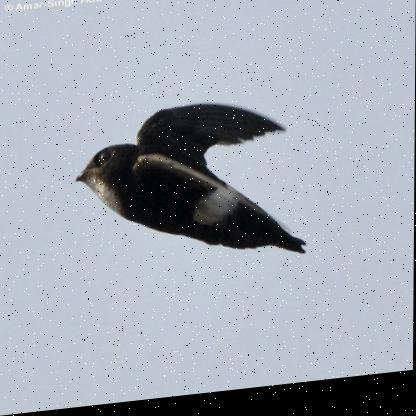Burung: (74, 99, 309, 281)
